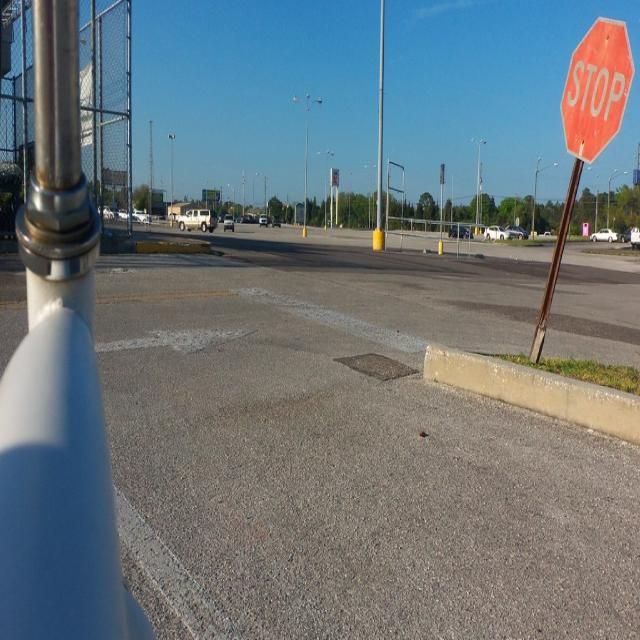Stop-sign: (558, 16, 634, 165)
